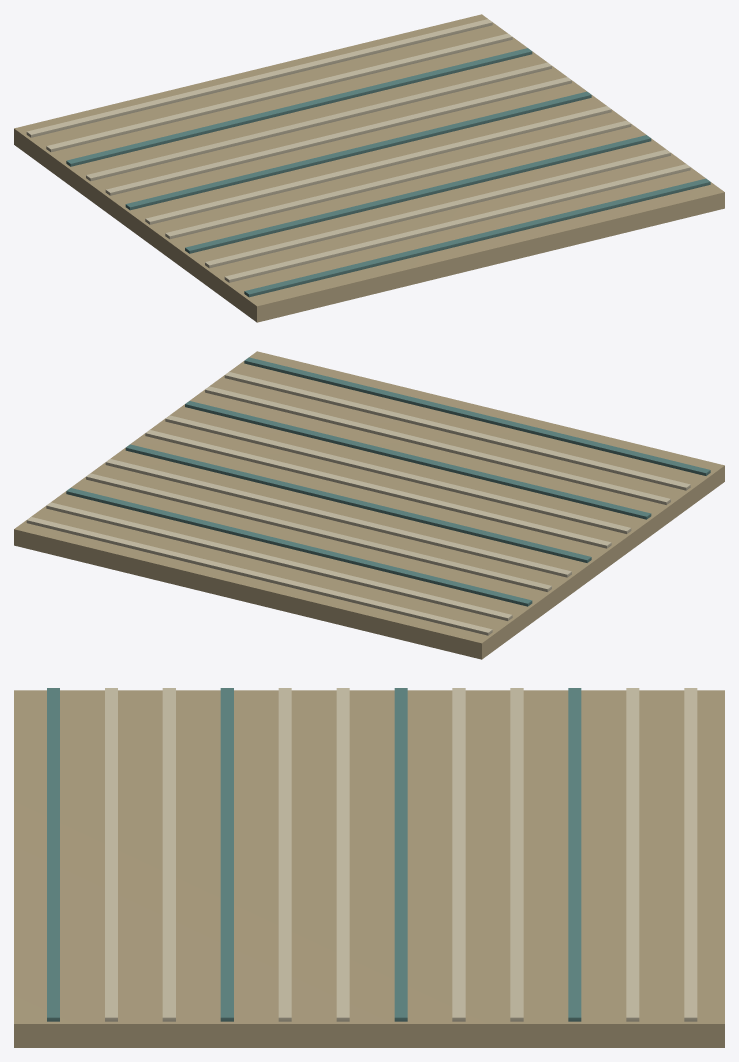
File: resting_mat.glb
The picture shows the model from 3 angles, top to bottom: view 1: azimuth 30°, elevation 25°; view 2: azimuth 150°, elevation 25°; view 3: azimuth 270°, elevation 25°; orthographic projection. The views are drawn at different scales.
Parts seen in each view (by area): view 1: resting_mat; view 2: resting_mat; view 3: resting_mat.
Boxes of the visible parts, box(x1,y1,x2,y2) form: resting_mat: box(14, 14, 724, 322); resting_mat: box(14, 351, 724, 659); resting_mat: box(14, 688, 724, 1047).
Bounding box in the file's own units: 1.5 × 0.059 × 1.35.
